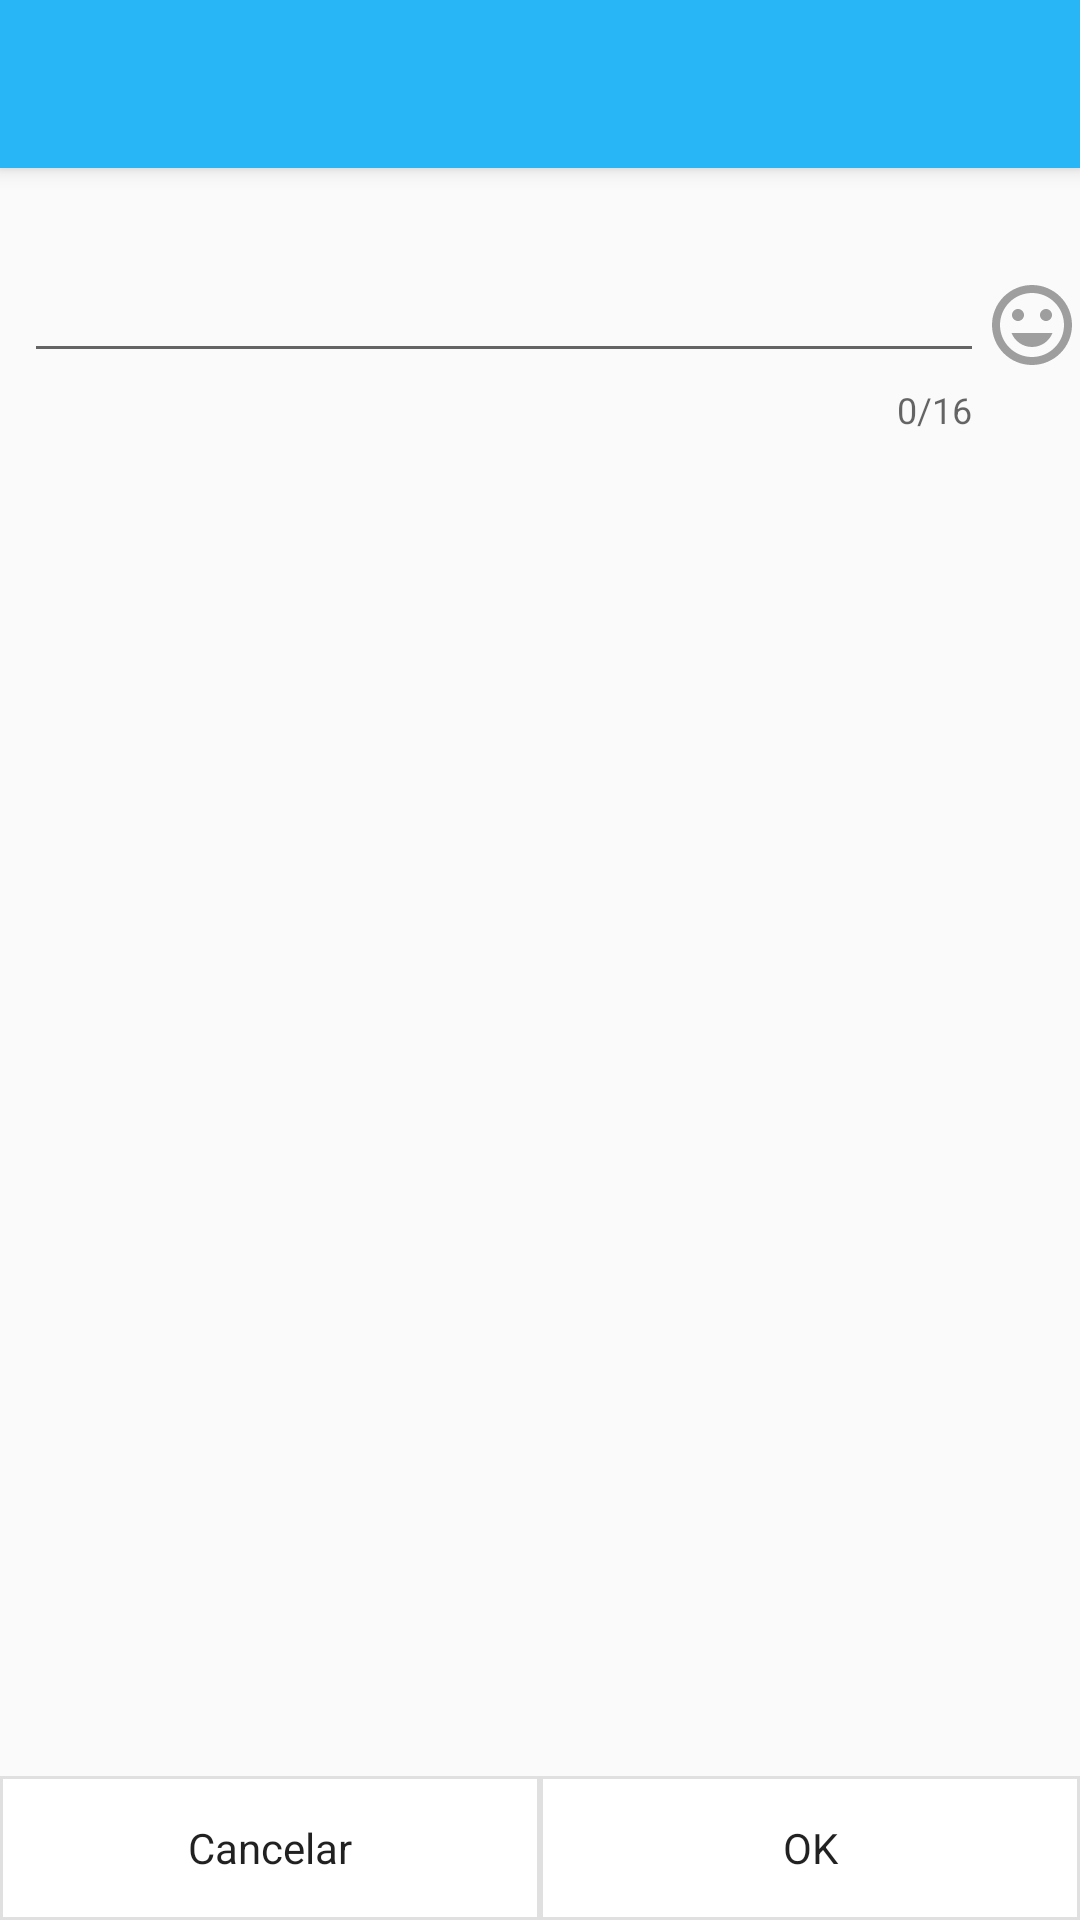

Locate icon controls on the screen. Image size 1080×1920, boxes as (x1, y1, x2, y2).
tag faces: (992, 285, 1072, 365)
